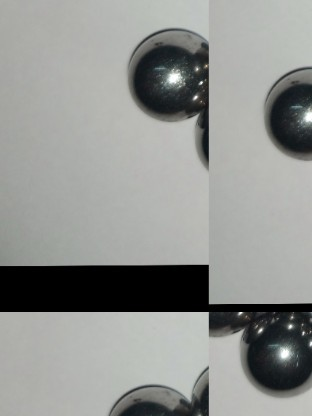ironball: (124, 27, 204, 122), (242, 312, 311, 399), (265, 58, 310, 158), (102, 380, 197, 415), (189, 312, 208, 379)
